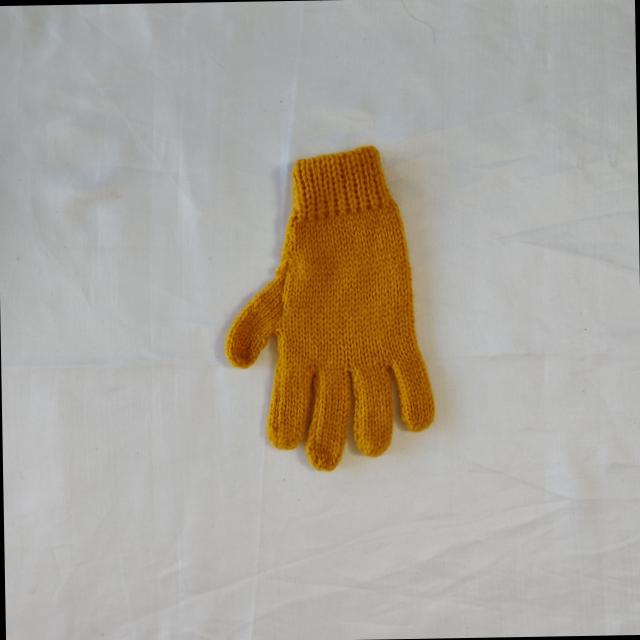Guante: (220, 142, 437, 474)
